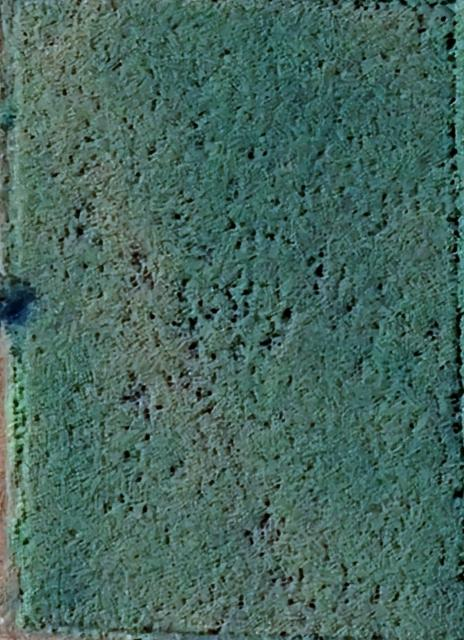Farms: (13, 0, 460, 640)
